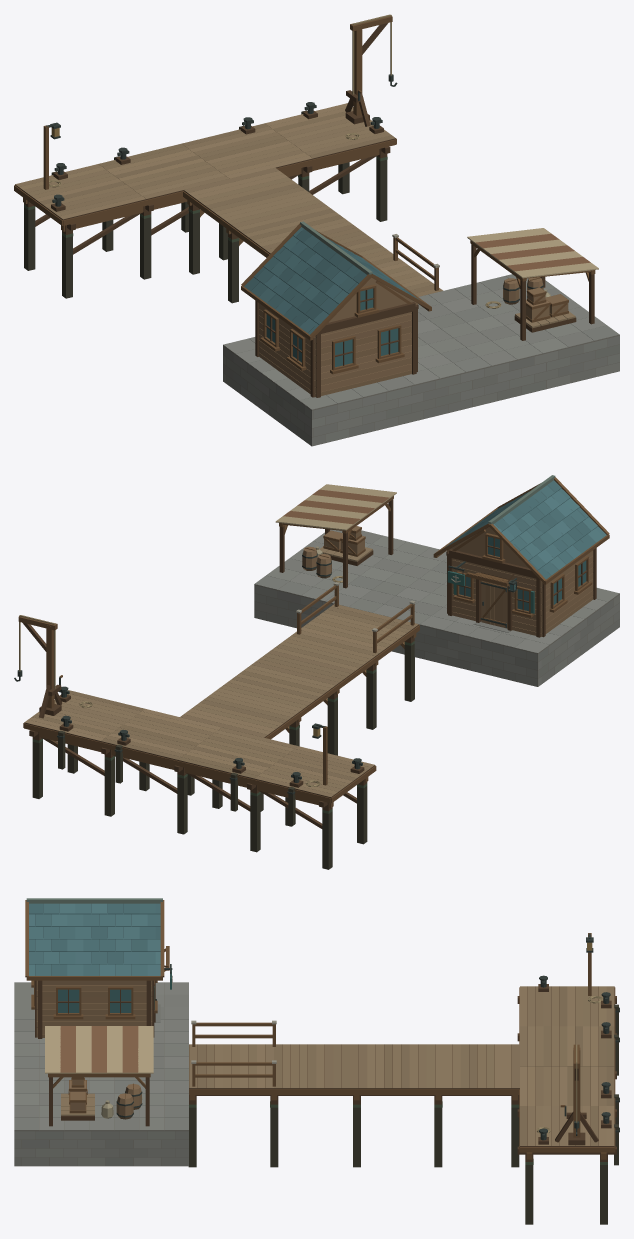
Rendered from Port.glb.
The picture shows the model from 3 angles, top to bottom: view 1: azimuth 30°, elevation 25°; view 2: azimuth 150°, elevation 25°; view 3: azimuth 270°, elevation 25°; orthographic projection. The views are drawn at different scales.
Visible parts, largest first — view 1: PortWharf, PortPierDeck, PortOffice, PortPierSupports, PortCargoShelter, PortHoist, PortCargo, PortMoorings, PortGlass; view 2: PortPierDeck, PortWharf, PortOffice, PortPierSupports, PortCargoShelter, PortMoorings, PortHoist, PortCargo, PortOfficeDoor, PortGlass; view 3: PortPierDeck, PortWharf, PortOffice, PortPierSupports, PortCargoShelter, PortMoorings, PortCargo, PortHoist, PortGlass.
Boxes of the visible parts, left/top/right/bottom form: PortWharf: left=223, top=274, right=619, bottom=446; PortPierDeck: left=15, top=103, right=442, bottom=296; PortOffice: left=241, top=221, right=431, bottom=397; PortPierSupports: left=14, top=110, right=396, bottom=303; PortCargoShelter: left=467, top=228, right=598, bottom=340; PortHoist: left=43, top=14, right=397, bottom=189; PortCargo: left=485, top=277, right=576, bottom=332; PortMoorings: left=49, top=102, right=439, bottom=290; PortGlass: left=266, top=288, right=398, bottom=367; PortPierDeck: left=24, top=604, right=418, bottom=797; PortWharf: left=254, top=529, right=619, bottom=686; PortOffice: left=433, top=475, right=609, bottom=637; PortPierSupports: left=23, top=625, right=419, bottom=869; PortCargoShelter: left=275, top=484, right=396, bottom=588; PortMoorings: left=57, top=582, right=415, bottom=794; PortHoist: left=14, top=615, right=327, bottom=785; PortCargo: left=302, top=526, right=373, bottom=582; PortOfficeDoor: left=480, top=580, right=507, bottom=628; PortGlass: left=459, top=536, right=586, bottom=611; PortPierDeck: left=189, top=986, right=614, bottom=1146; PortWharf: left=14, top=982, right=188, bottom=1166; PortOffice: left=25, top=898, right=172, bottom=1038; PortPierSupports: left=188, top=987, right=618, bottom=1224; PortCargoShelter: left=45, top=1026, right=153, bottom=1126; PortMoorings: left=191, top=975, right=619, bottom=1144; PortCargo: left=61, top=1077, right=142, bottom=1120; PortHoist: left=555, top=933, right=598, bottom=1145; PortGlass: left=58, top=989, right=131, bottom=1012.
Bounding box in the file's own units: 17.85 × 9.15 × 25.64.
